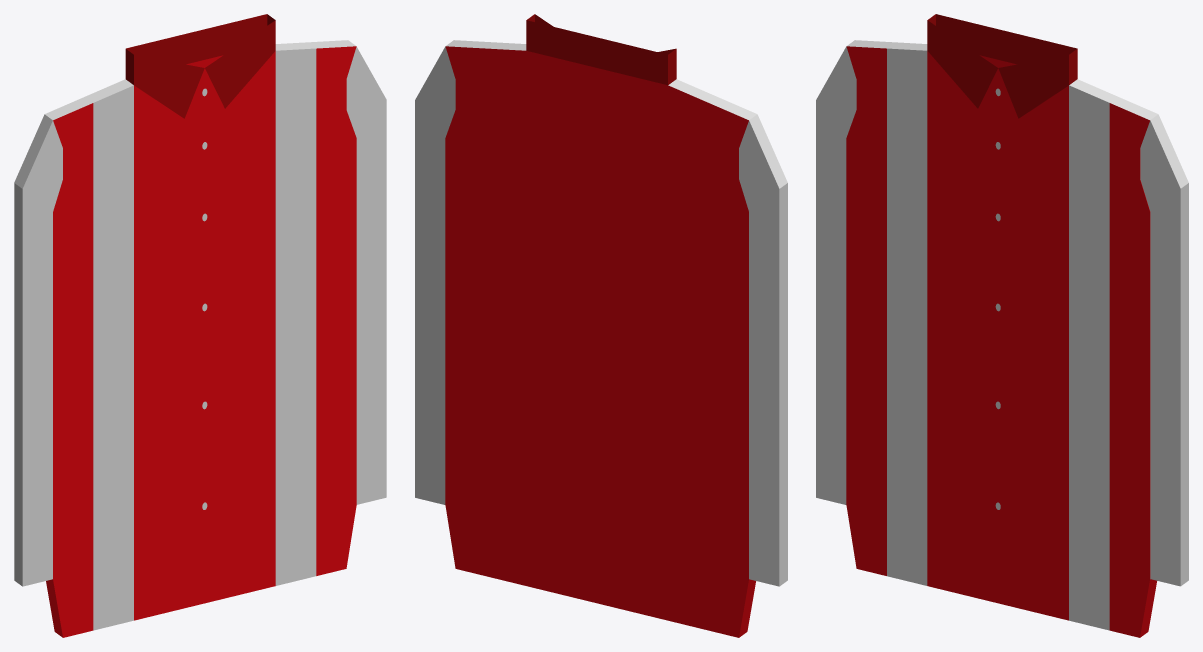
File: shirt-red.dae
3 renders of one model, left to right at view 1: azimuth 30°, elevation 25°; view 2: azimuth 150°, elevation 25°; view 3: azimuth 330°, elevation 25°, orthographic.
Parts seen in each view (by area): view 1: group_1_002, group_1_004, group_1_008, group_1_006, group_1_009, group_1_003, group_1_005, group_1_014; view 2: group_1_002, group_1_004, group_1_007, group_1_006, group_1_015, group_1_008, group_1_005; view 3: group_1_002, group_1_008, group_1_004, group_1_006, group_1_003, group_1_009, group_1_014, group_1_005.
Part boxes in pixels (x1,y1,x2,y2): group_1_002: (46, 46, 356, 637); group_1_004: (14, 79, 133, 630); group_1_008: (275, 40, 386, 585); group_1_006: (126, 14, 267, 64); group_1_009: (125, 49, 204, 118); group_1_003: (205, 14, 275, 108); group_1_005: (14, 518, 52, 586); group_1_014: (356, 436, 386, 504); group_1_002: (445, 46, 755, 637); group_1_004: (668, 79, 787, 525); group_1_007: (415, 46, 455, 504); group_1_006: (526, 20, 667, 85); group_1_015: (749, 518, 779, 586); group_1_008: (446, 40, 526, 50); group_1_005: (779, 519, 787, 586); group_1_002: (846, 46, 1156, 637); group_1_008: (1069, 79, 1188, 630); group_1_004: (816, 40, 927, 585); group_1_006: (936, 14, 1077, 64); group_1_003: (998, 49, 1077, 118); group_1_009: (927, 14, 997, 108); group_1_014: (1150, 518, 1188, 586); group_1_005: (816, 436, 846, 504).
Size of the model in its own units: 0.6333 by 0.0254 by 0.9398.
